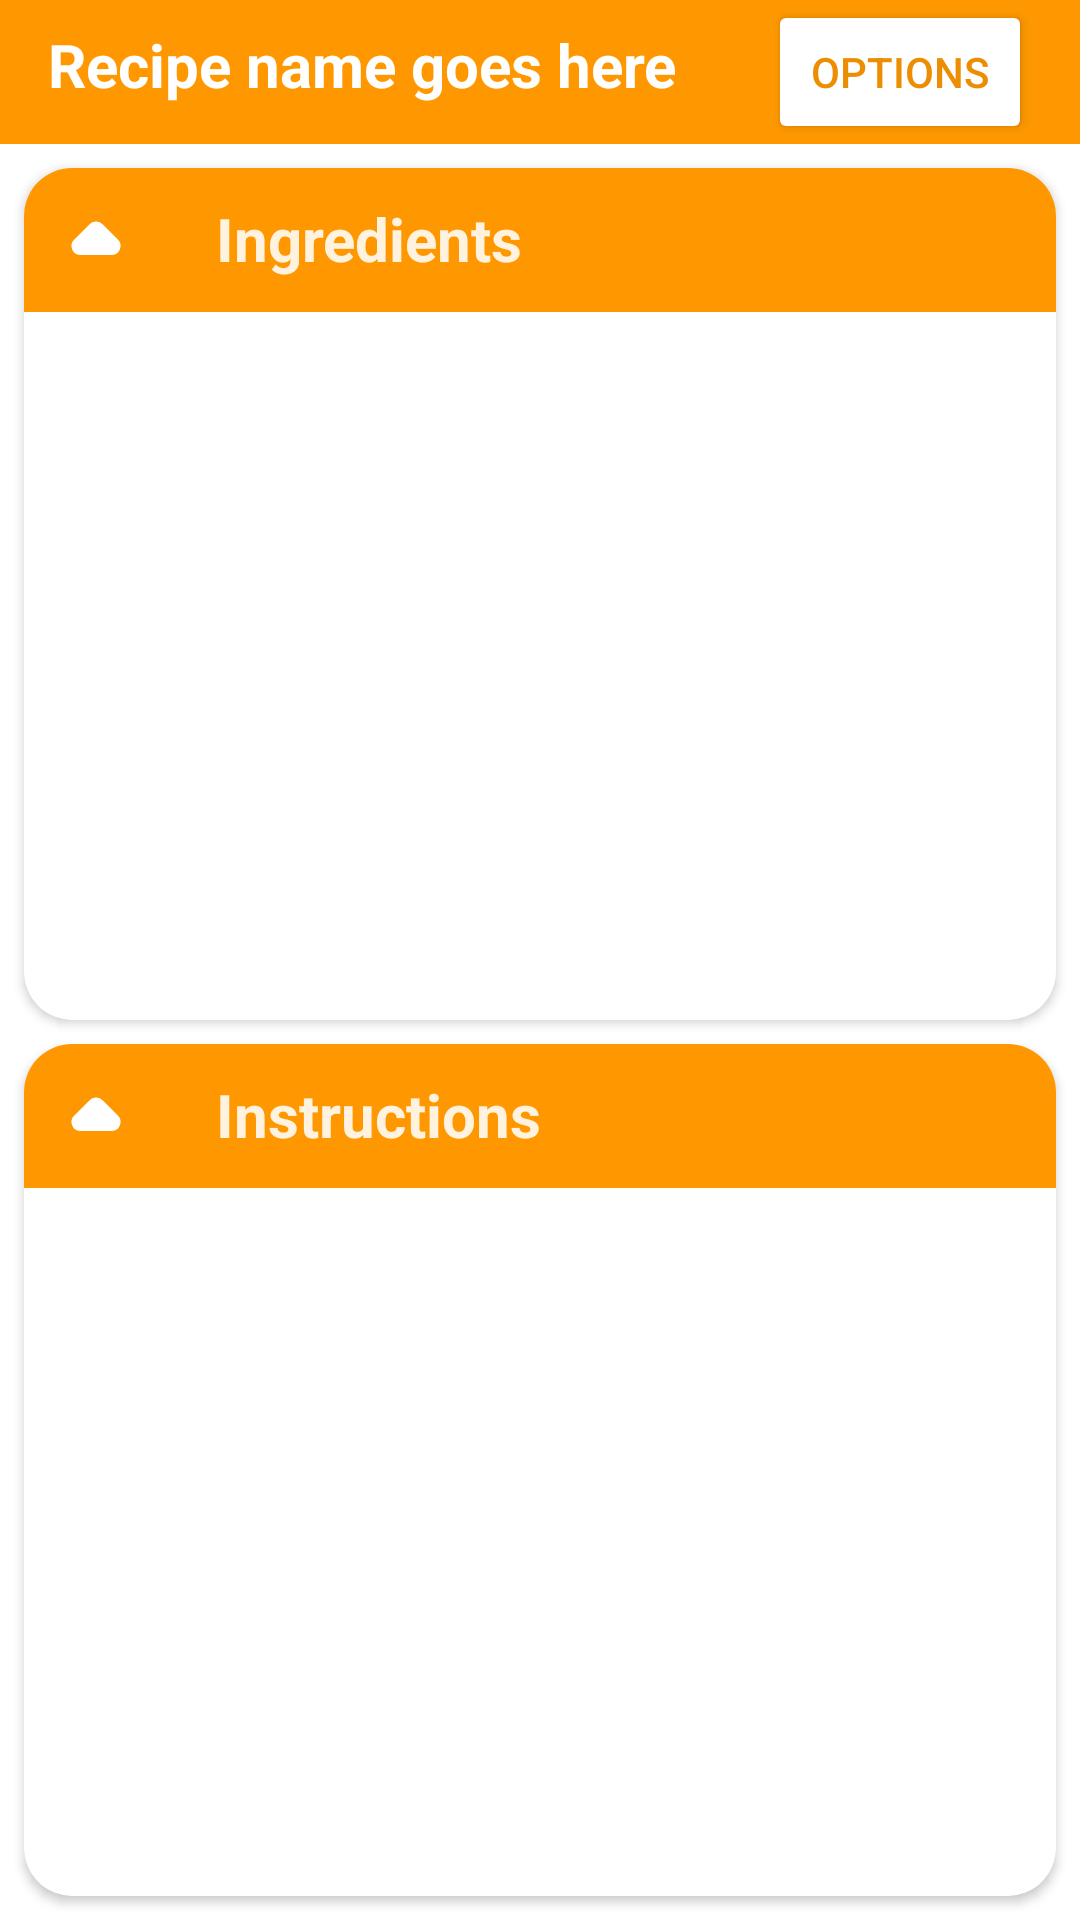

Icon bounding boxes for this 1080px x 1920px phone screenshot, format (x1, y1, x2, y2):
arrow up: (24, 168, 168, 312), (24, 1044, 168, 1188)
